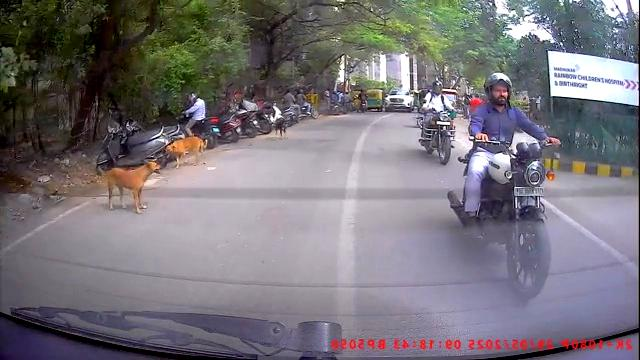motorcycle_with_helmet: (454, 69, 566, 299), (419, 76, 456, 168)
